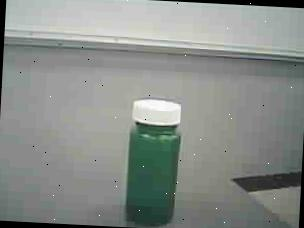Bottle C: (112, 92, 189, 228)
